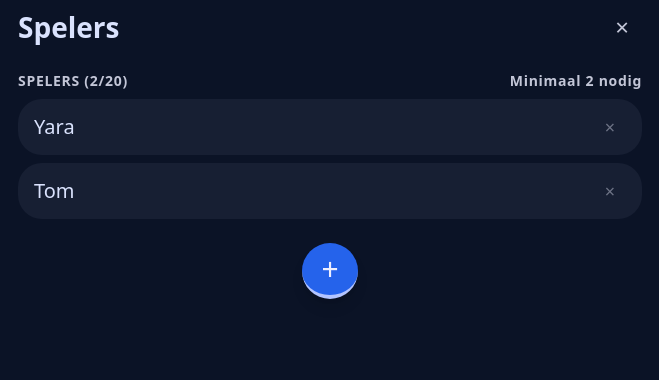
Test: LivePlayerManagementScreen (US3) › reflects an add immediately followed by a remove, with no unmount/remount (FR-011)
Expected: the text "SPELERS (2/20)" is shown, 18,71 -> 128,91
Click the button named "speler toevoegen" at (330,271), box 302,243 -> 358,299
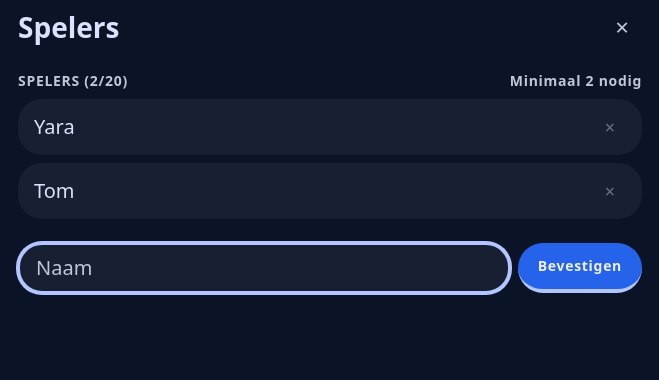
Type "Nieuwkomer" into the field at (264,268), box 18,243 -> 510,293
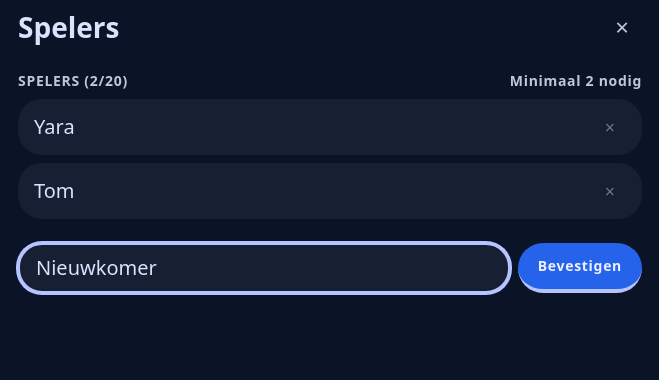
Click the button "Bevestigen" at (580,268), box 518,243 -> 642,293
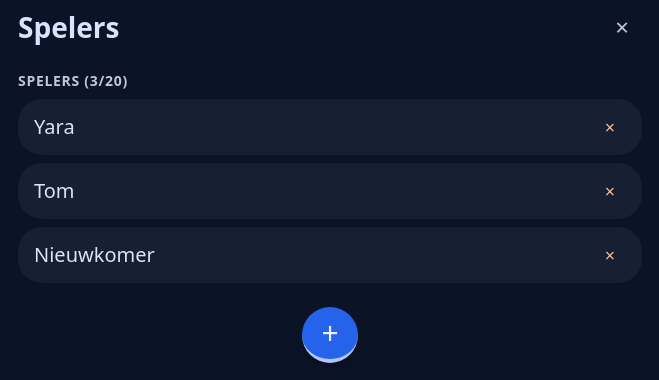
Result: the text "SPELERS (3/20)" is shown at 18,71 -> 128,91
Result: the text "Nieuwkomer" is shown at 34,240 -> 155,270
Click the button named "verwijder nieuwkomer" at (610,255), box 594,239 -> 626,271
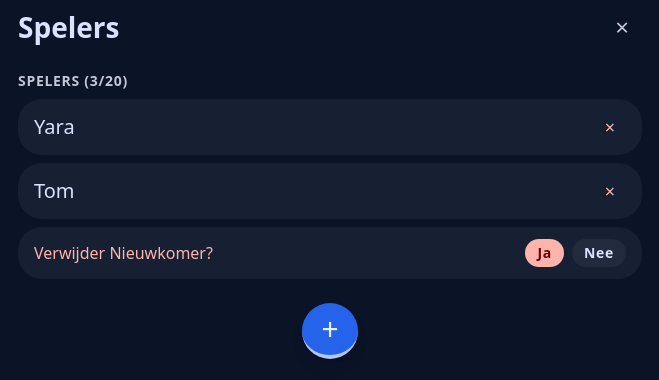
Click the button "Ja" at (545,253), box 526,239 -> 564,267
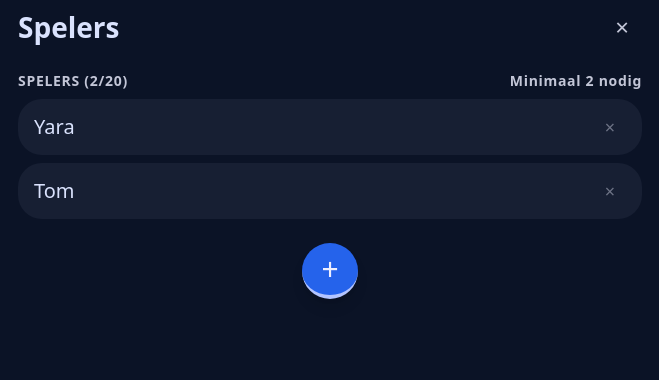
Result: the text "SPELERS (2/20)" is shown at 18,71 -> 128,91
Result: the text "Nieuwkomer" is gone
